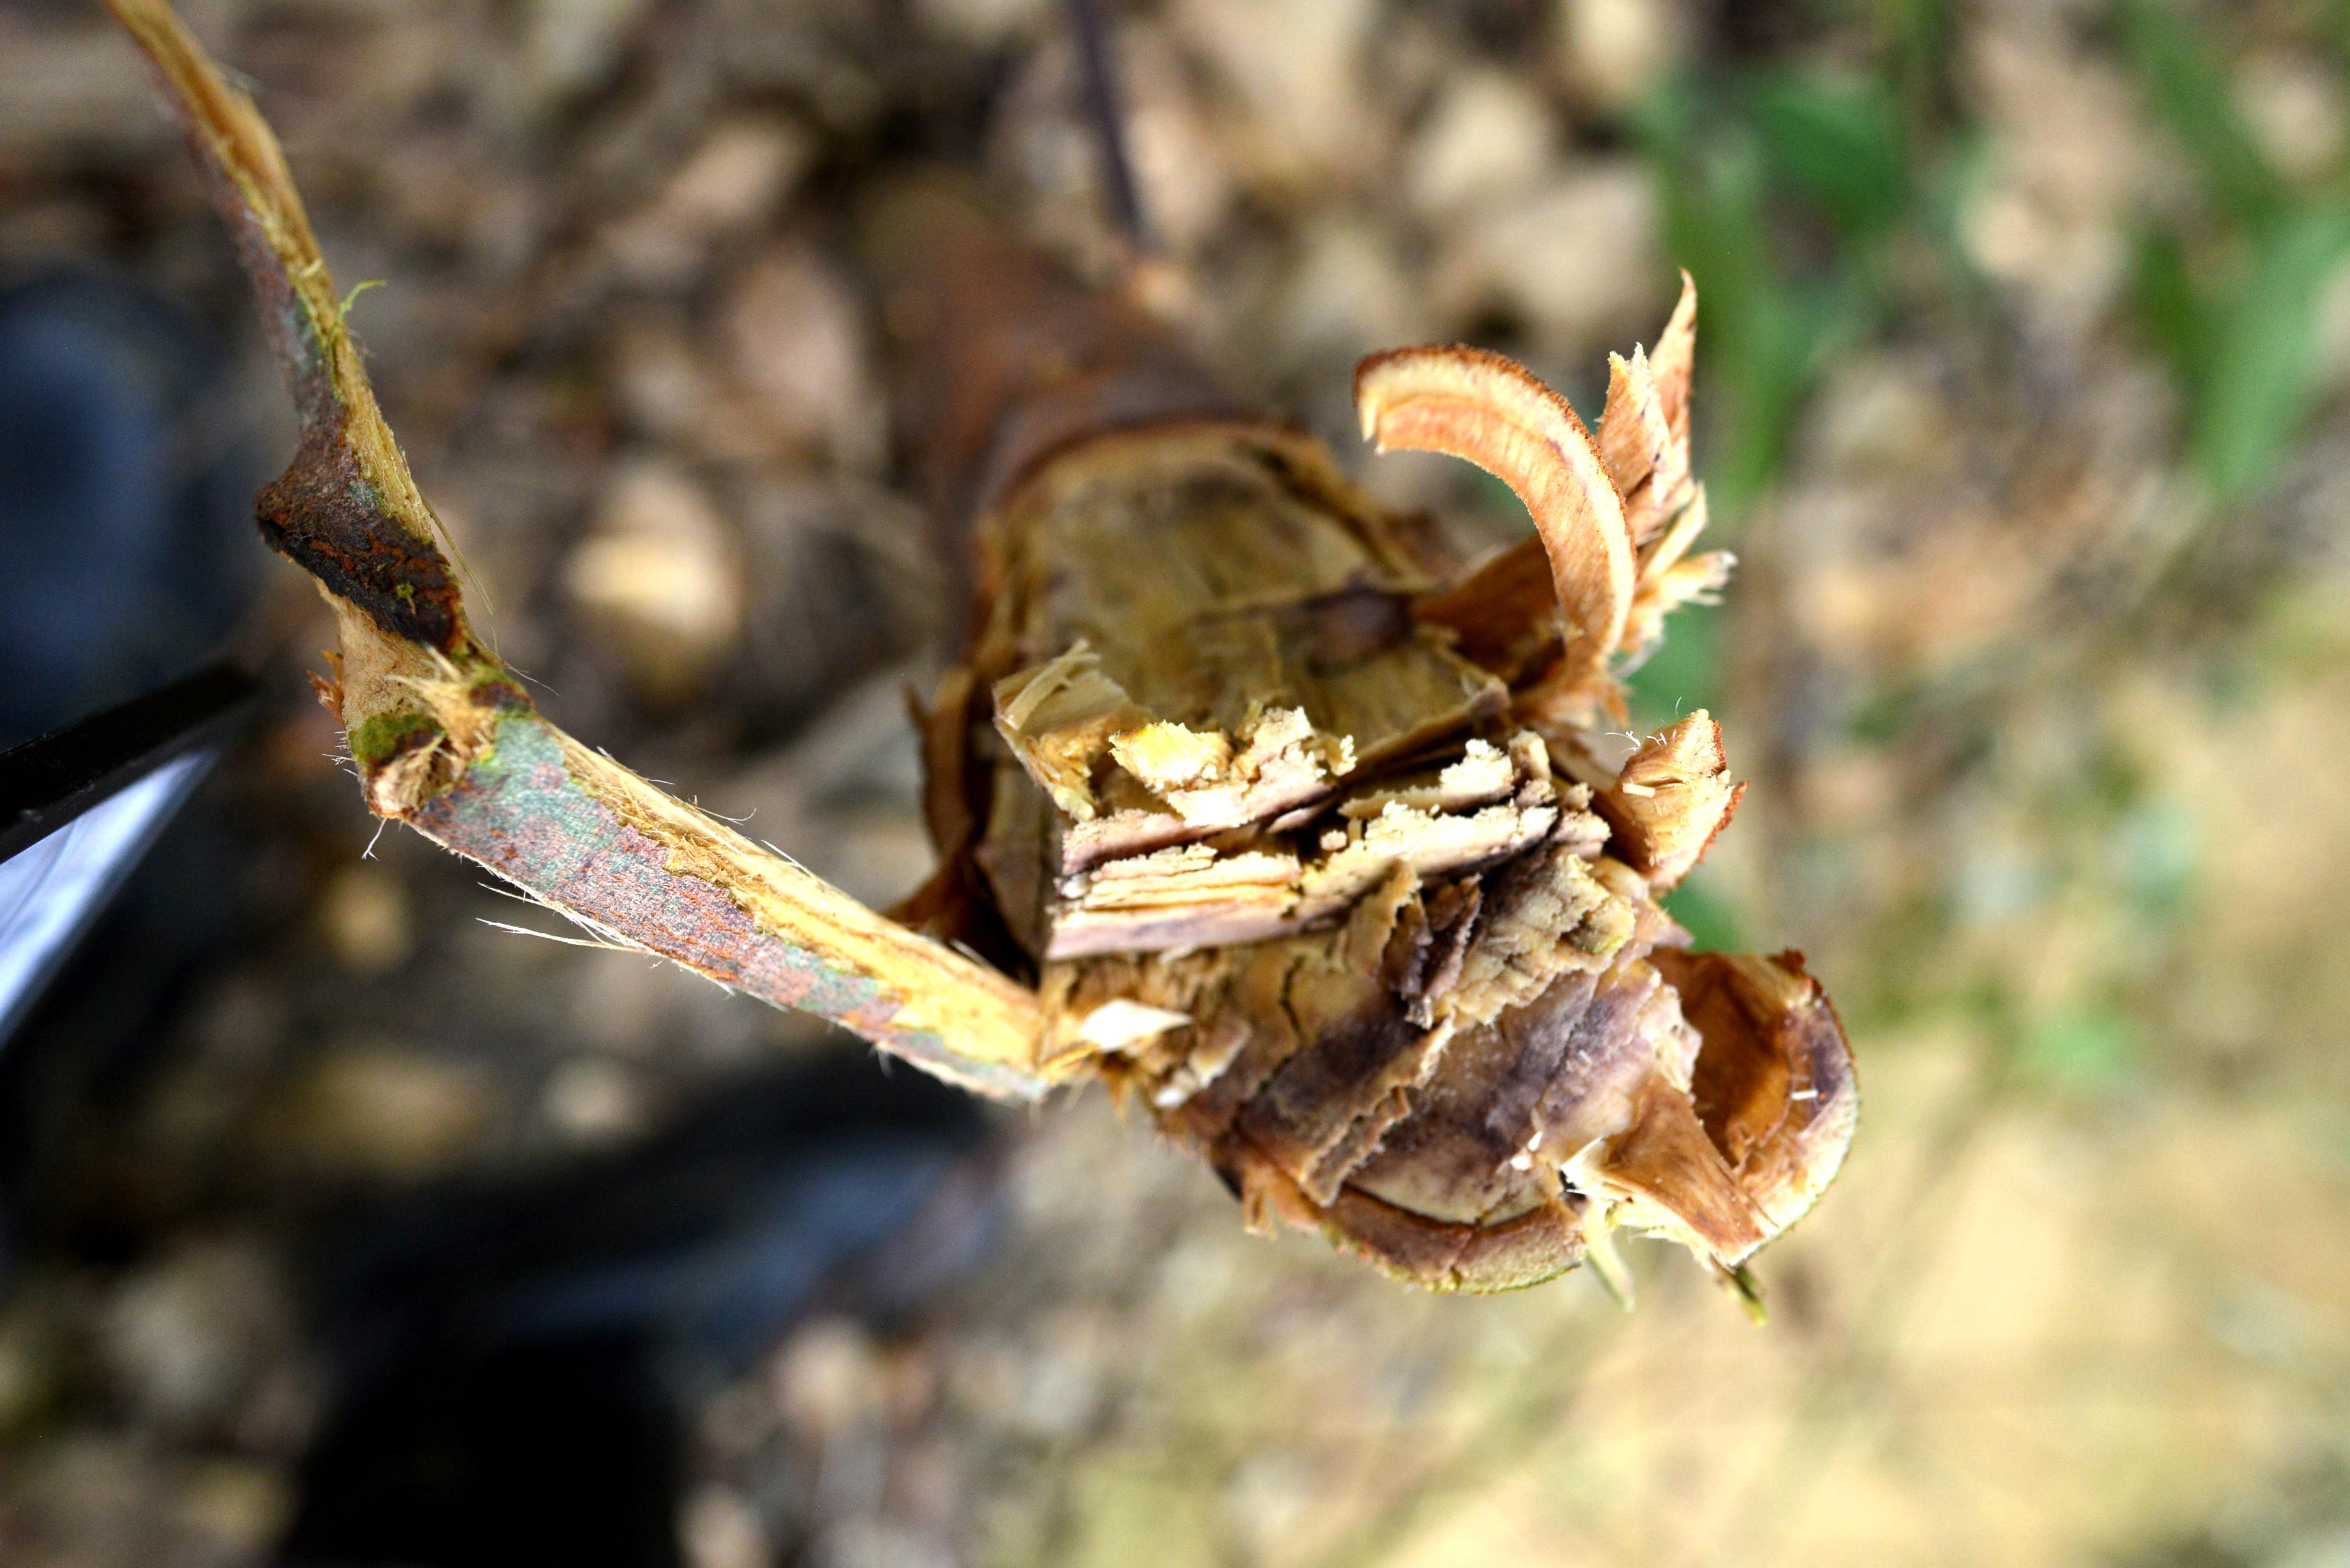Ralstonia: (1223, 905, 1433, 1190), (1445, 955, 1655, 1164), (1472, 817, 1566, 929), (1792, 1003, 1846, 1116)
